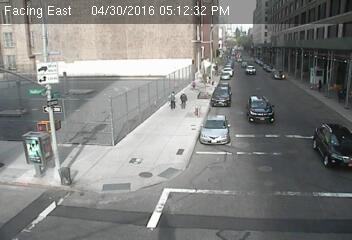neg: (193, 12, 211, 36), (118, 80, 133, 100), (111, 12, 125, 30), (75, 12, 87, 28), (248, 100, 259, 115), (82, 88, 92, 100), (243, 68, 252, 80), (48, 39, 57, 51), (159, 13, 168, 25), (287, 30, 296, 42), (327, 29, 336, 41), (151, 58, 159, 69), (43, 97, 51, 108), (324, 120, 332, 130), (216, 128, 223, 137), (312, 7, 319, 16), (36, 61, 41, 68)
pos: (172, 88, 190, 111), (164, 88, 181, 111), (314, 78, 325, 93), (188, 76, 199, 90)
